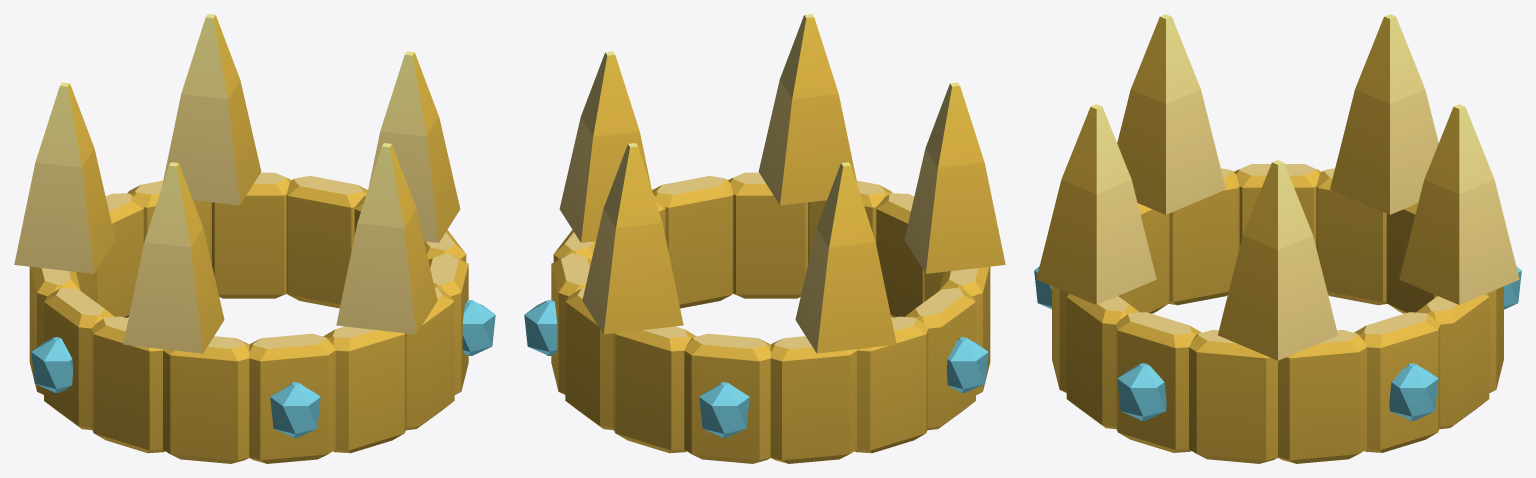
Rendered from EliteCrown.fbx.
The picture shows the model from 3 angles, left to right: view 1: azimuth 30°, elevation 25°; view 2: azimuth 150°, elevation 25°; view 3: azimuth 270°, elevation 25°; orthographic projection. The views are drawn at different scales.
Visible parts, largest first — view 1: Band, Spikes, Gems; view 2: Band, Spikes, Gems; view 3: Band, Spikes, Gems.
Boxes of the visible parts, left/top/right/bottom form: Band: left=29, top=172, right=468, bottom=463; Spikes: left=14, top=14, right=460, bottom=353; Gems: left=31, top=300, right=495, bottom=437; Band: left=551, top=172, right=990, bottom=463; Spikes: left=559, top=14, right=1005, bottom=353; Gems: left=524, top=300, right=988, bottom=437; Band: left=1052, top=164, right=1503, bottom=463; Spikes: left=1036, top=14, right=1519, bottom=360; Gems: left=1034, top=266, right=1521, bottom=420.
Size of the model in its own units: 0.504 by 0.32 by 0.4856.
Materials: 2 (2 with a texture image).
